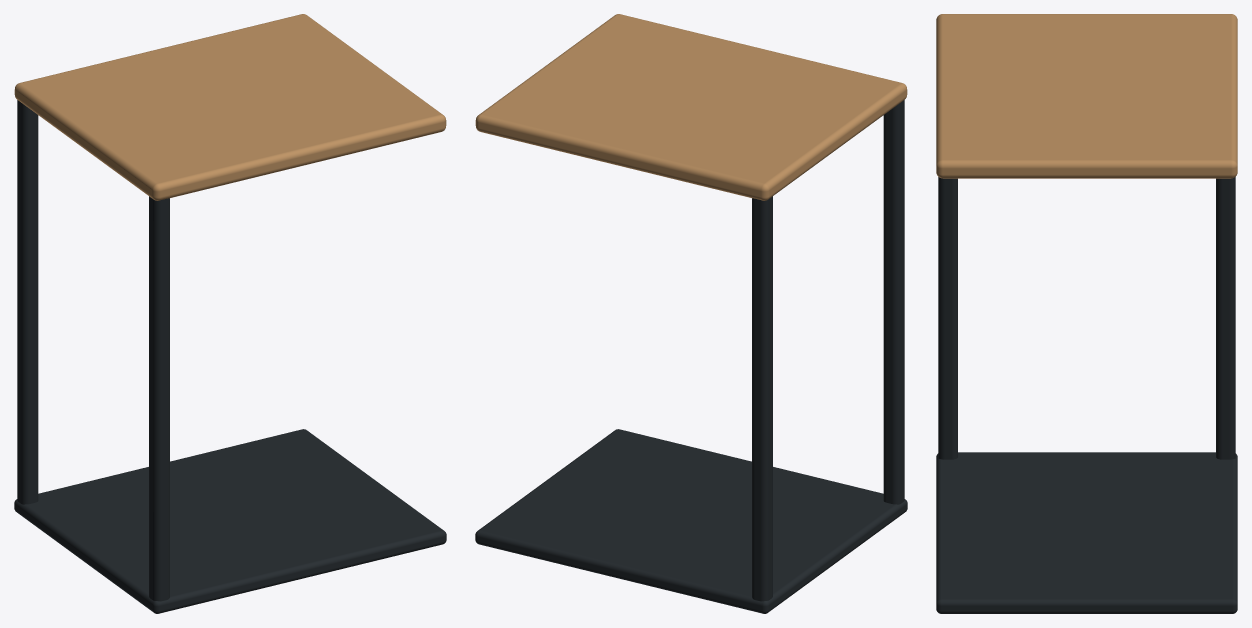
File: sideTable-2.glb
3 renders of one model, left to right at view 1: azimuth 30°, elevation 25°; view 2: azimuth 150°, elevation 25°; view 3: azimuth 270°, elevation 25°, orthographic. The views are drawn at different scales.
Visible parts, largest first — view 1: sideTable:2:archviz; view 2: sideTable:2:archviz; view 3: sideTable:2:archviz.
Boxes of the visible parts, x1,y1,x2,y2 form: sideTable:2:archviz: [14, 14, 446, 613]; sideTable:2:archviz: [475, 14, 907, 613]; sideTable:2:archviz: [936, 14, 1237, 613].
Bounding box in the file's own units: 0.45 × 0.63 × 0.38.
